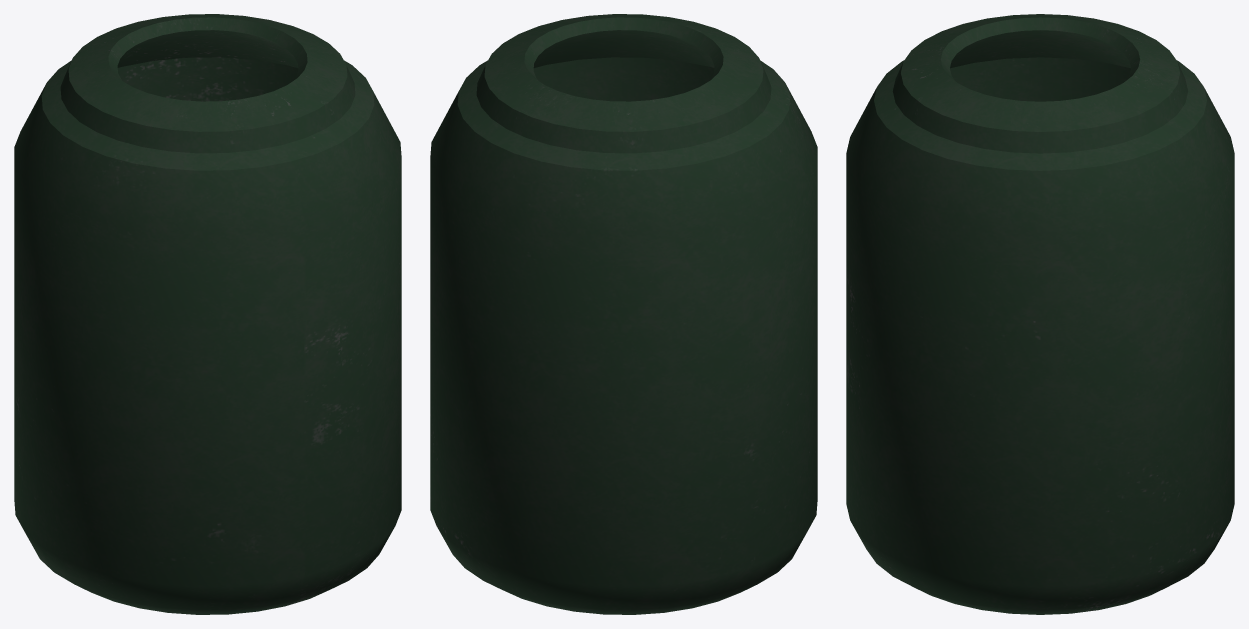
File: BOTTLE2.fbx
3 views of the same model, side by side, from view 1: azimuth 30°, elevation 25°; view 2: azimuth 150°, elevation 25°; view 3: azimuth 270°, elevation 25° (orthographic).
Parts seen in each view (by area): view 1: bottle2; view 2: bottle2; view 3: bottle2.
Boxes of the visible parts, left/top/right/bottom form: bottle2: left=14, top=14, right=401, bottom=614; bottle2: left=430, top=14, right=817, bottom=614; bottle2: left=846, top=14, right=1234, bottom=614.
Size of the model in its own units: 43.18 by 61.98 by 43.18.
